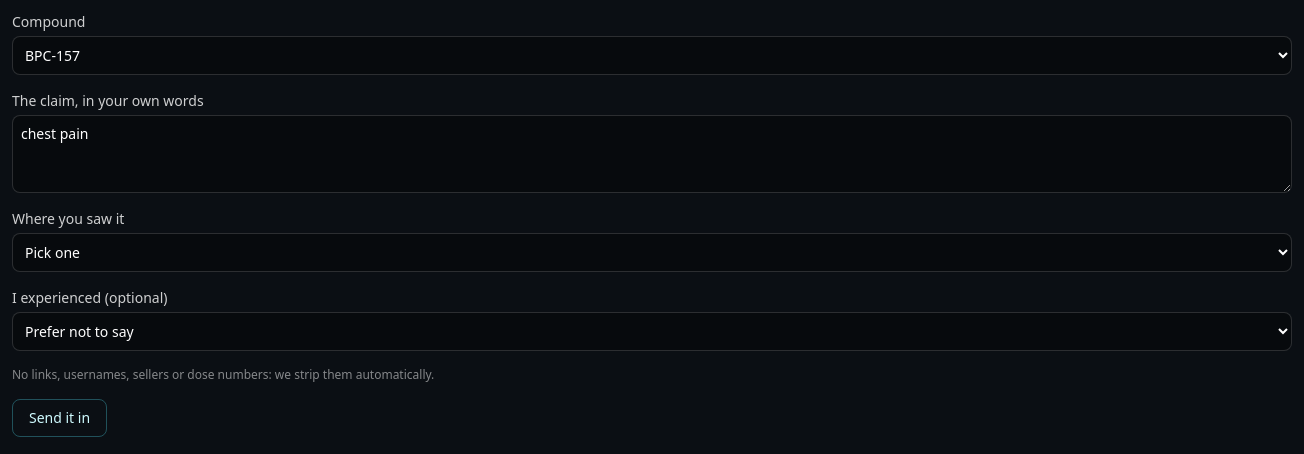
Test: SubmitClaimForm › shows the safety message and redaction notice the API returns
Select "Reddit" in the dropdown labelled "Where you saw it" at (652, 252), box left=12, top=233, right=1292, bottom=272
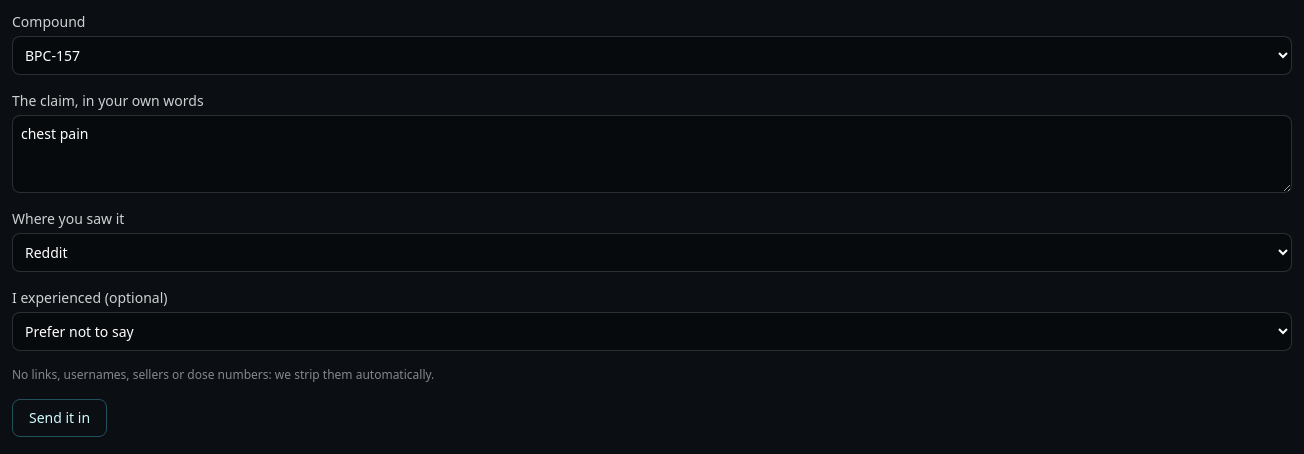
Click the button "Send it in" at (60, 418), box left=12, top=399, right=107, bottom=437
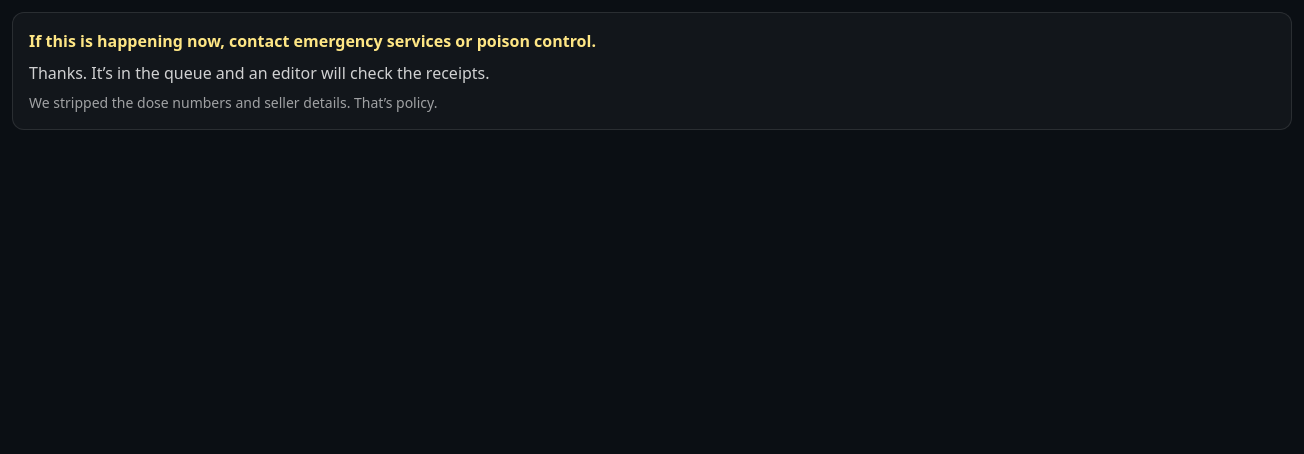
expect the text "contact emergency services or poison control" is shown: met, box left=29, top=30, right=596, bottom=52
expect the text "We stripped the dose numbers" is shown: met, box left=29, top=93, right=437, bottom=112
